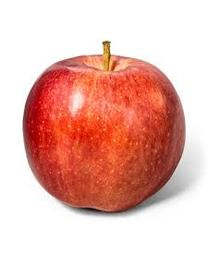apple: (21, 40, 186, 213)
